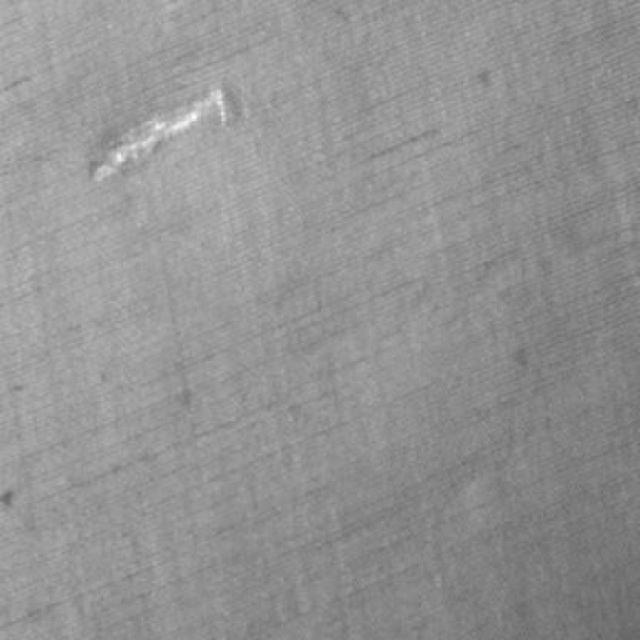other: (30, 41, 350, 284)
